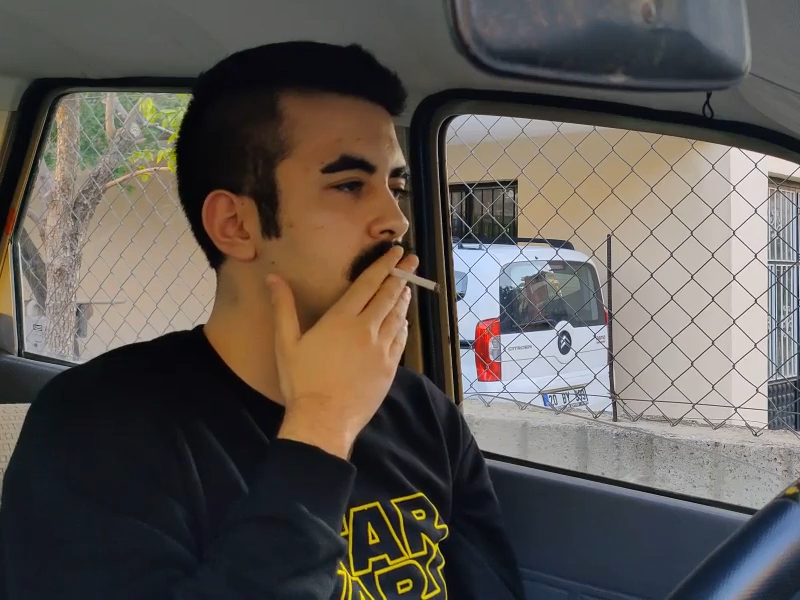sigara: (389, 267, 441, 295)
